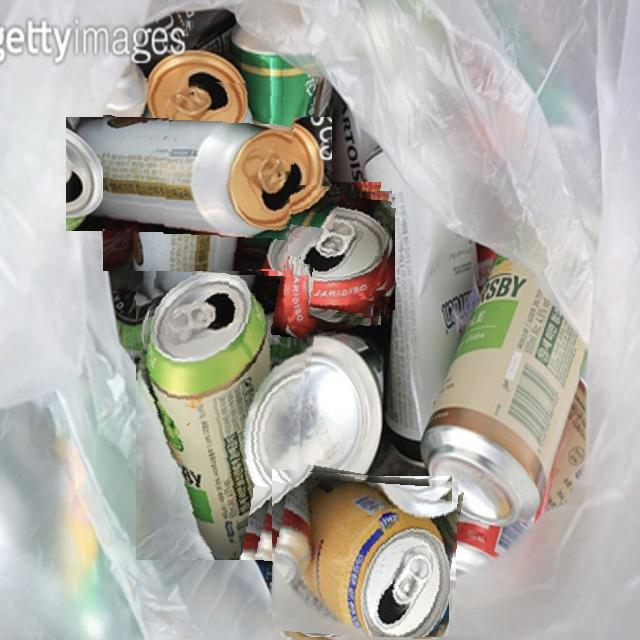recyclable: (136, 258, 313, 560), (103, 78, 295, 271), (272, 469, 458, 637), (255, 185, 393, 322)
